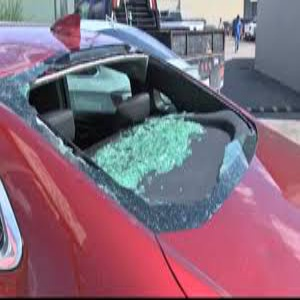bumper: (85, 207, 193, 299)
